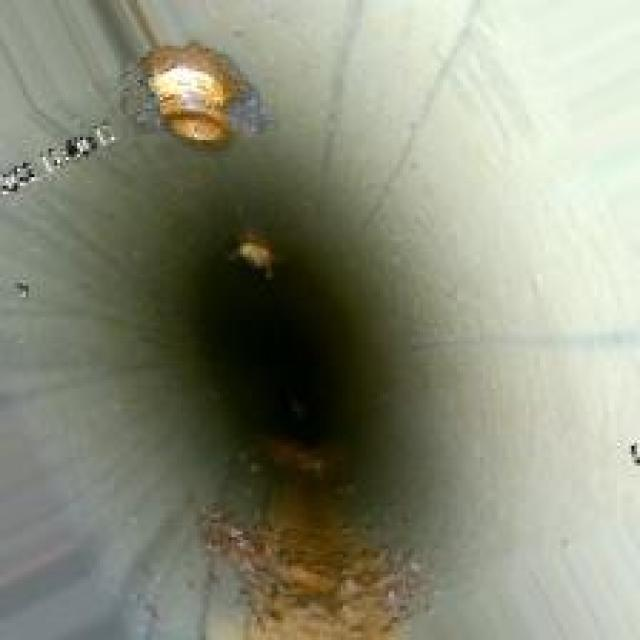ferrule: (137, 34, 243, 146), (228, 231, 283, 280)
